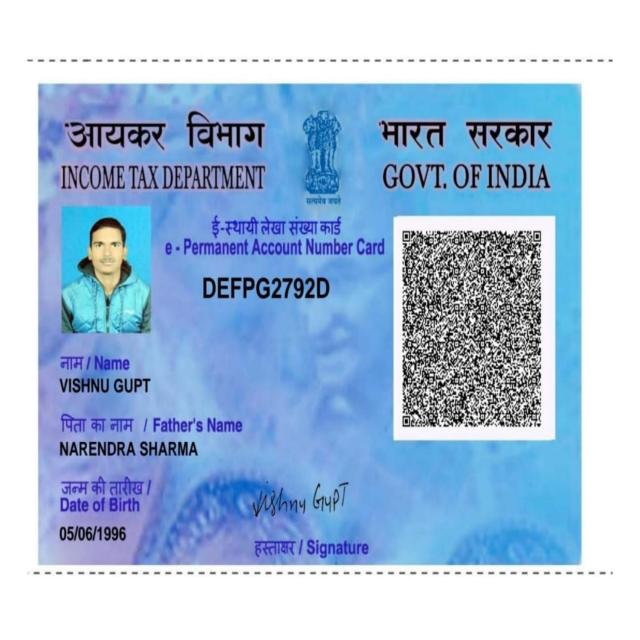pan_card: (39, 90, 581, 566)
